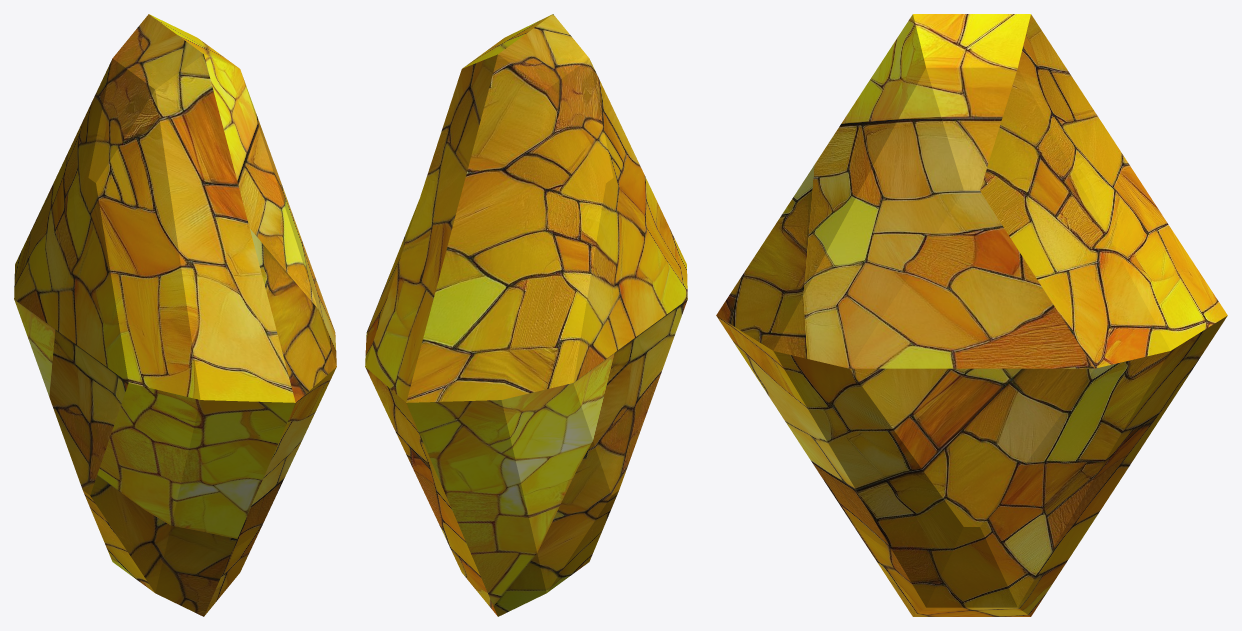
Rendered from gemstone7YellowCompressed.glb.
The picture shows the model from 3 angles, left to right: view 1: azimuth 30°, elevation 25°; view 2: azimuth 150°, elevation 25°; view 3: azimuth 270°, elevation 25°; orthographic projection. The views are drawn at different scales.
Visible parts, largest first — view 1: gemstone6; view 2: gemstone6; view 3: gemstone6.
Boxes of the visible parts, x1,y1,x2,y2 form: gemstone6: [14, 14, 336, 616]; gemstone6: [365, 14, 687, 616]; gemstone6: [716, 14, 1227, 616].
Bounding box in the file's own units: 0.5 × 1.3 × 1.
1 material, 1 textured.
